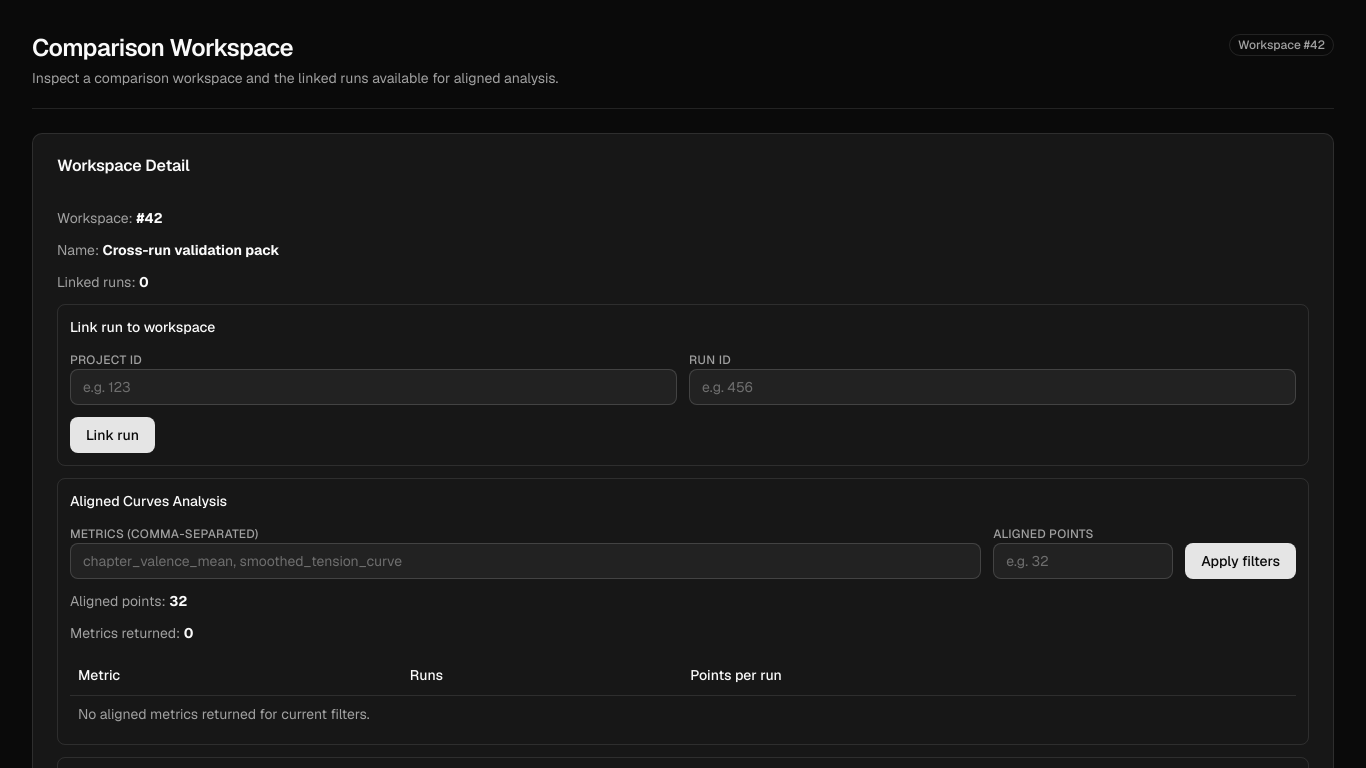
comparison workspace detail page › links a run and revalidates workspace detail
Step 1. Type "333" into the field with test id "comparison-workspace-link-project-id-input" → (374, 387), box [70,369,677,405]
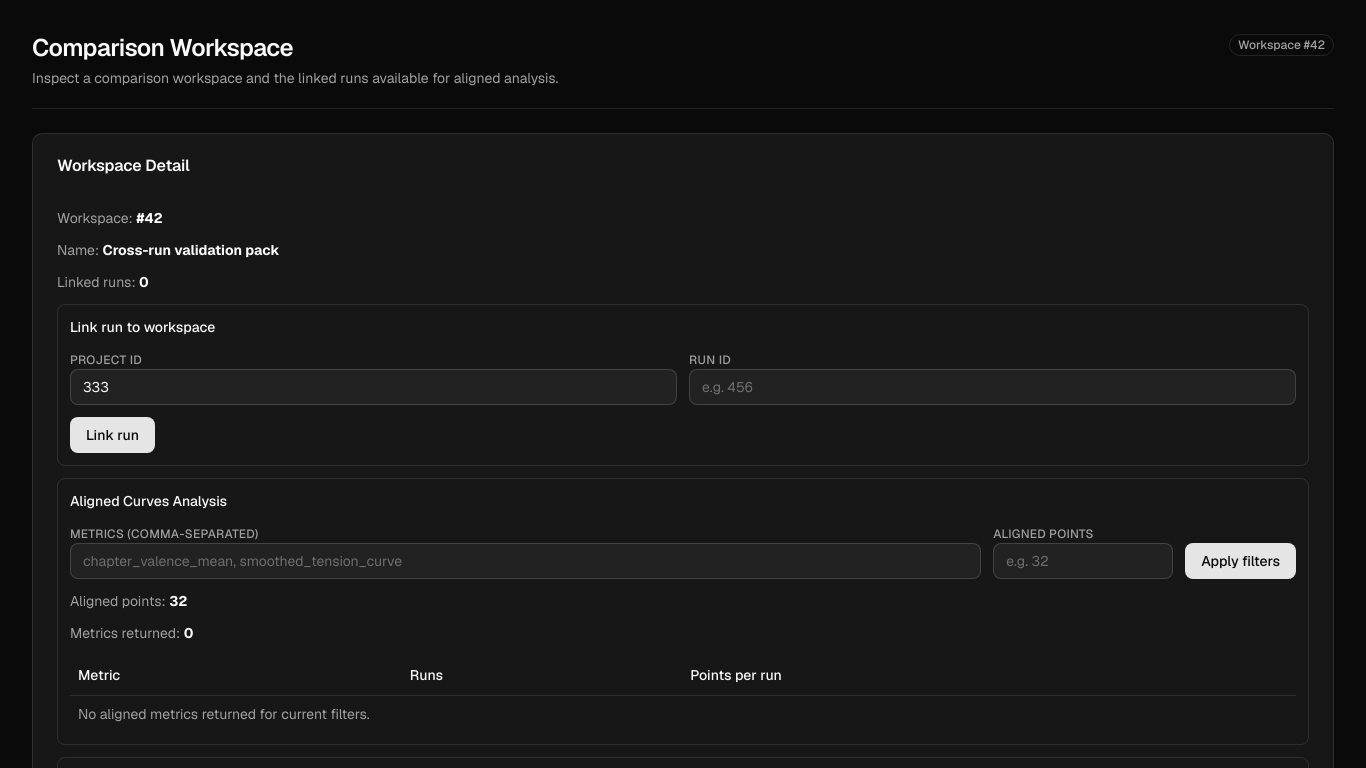
Step 2. Type "900" into the field with test id "comparison-workspace-link-run-id-input" → (992, 387), box [689,369,1296,405]
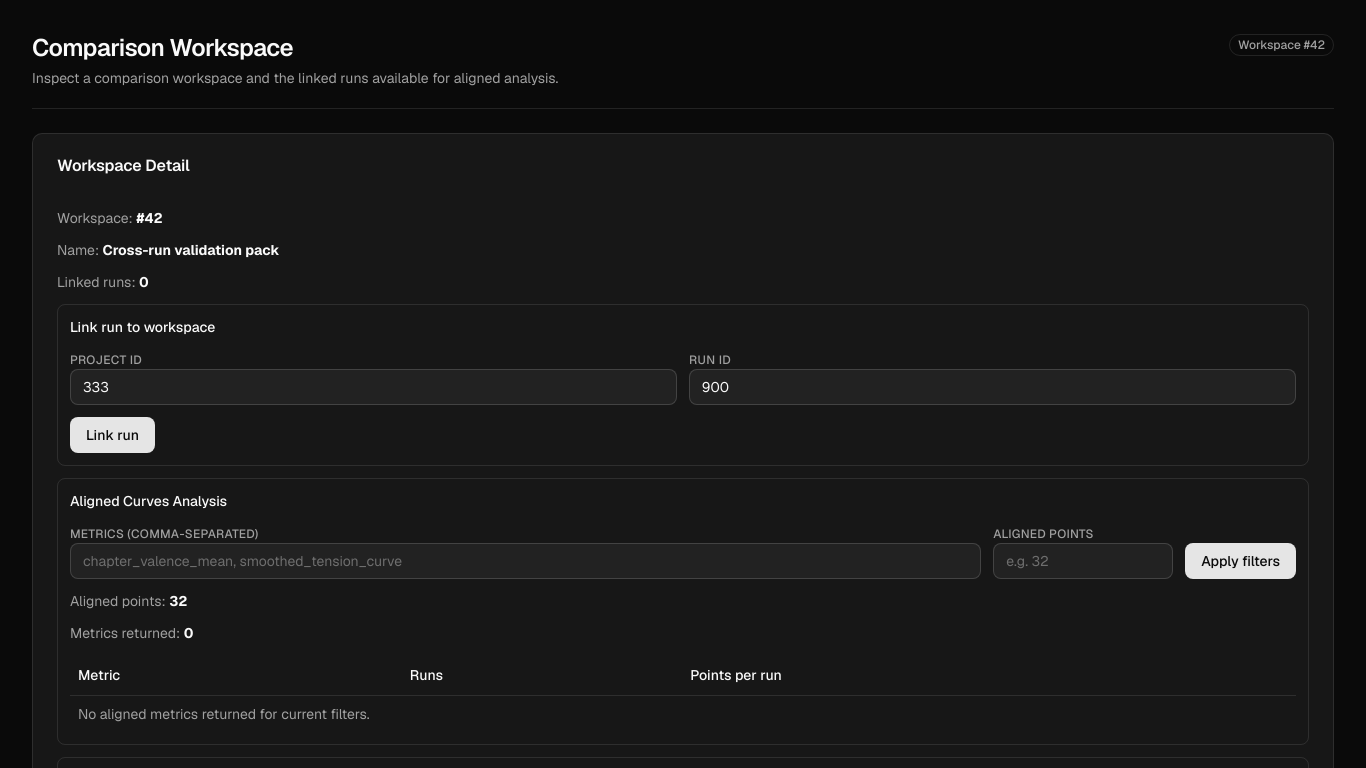
Step 3. Click the button with test id "comparison-workspace-link-run-button" → (113, 435), box [70,417,155,453]
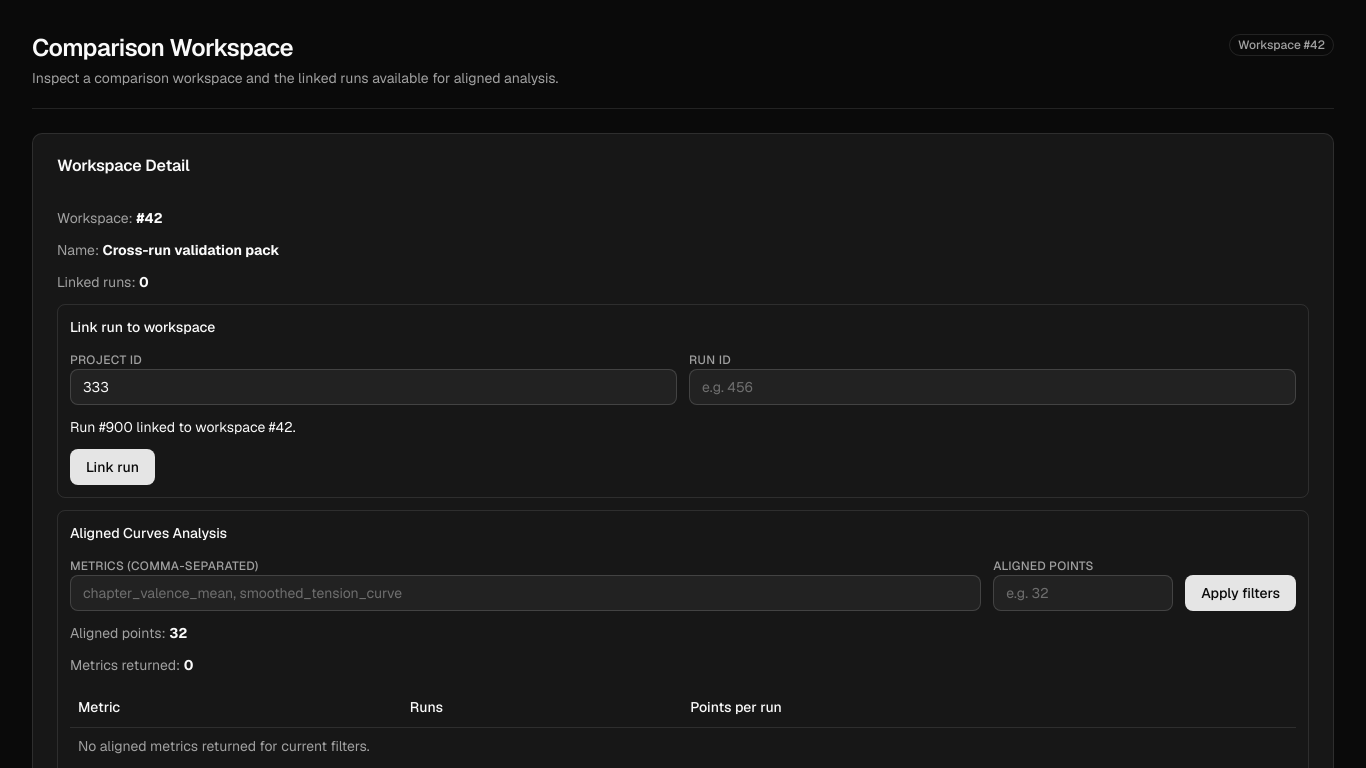
Expected: the text with test id "comparison-workspace-link-success" reads "Run #900 linked to workspace #42.", [70,418,296,436]
